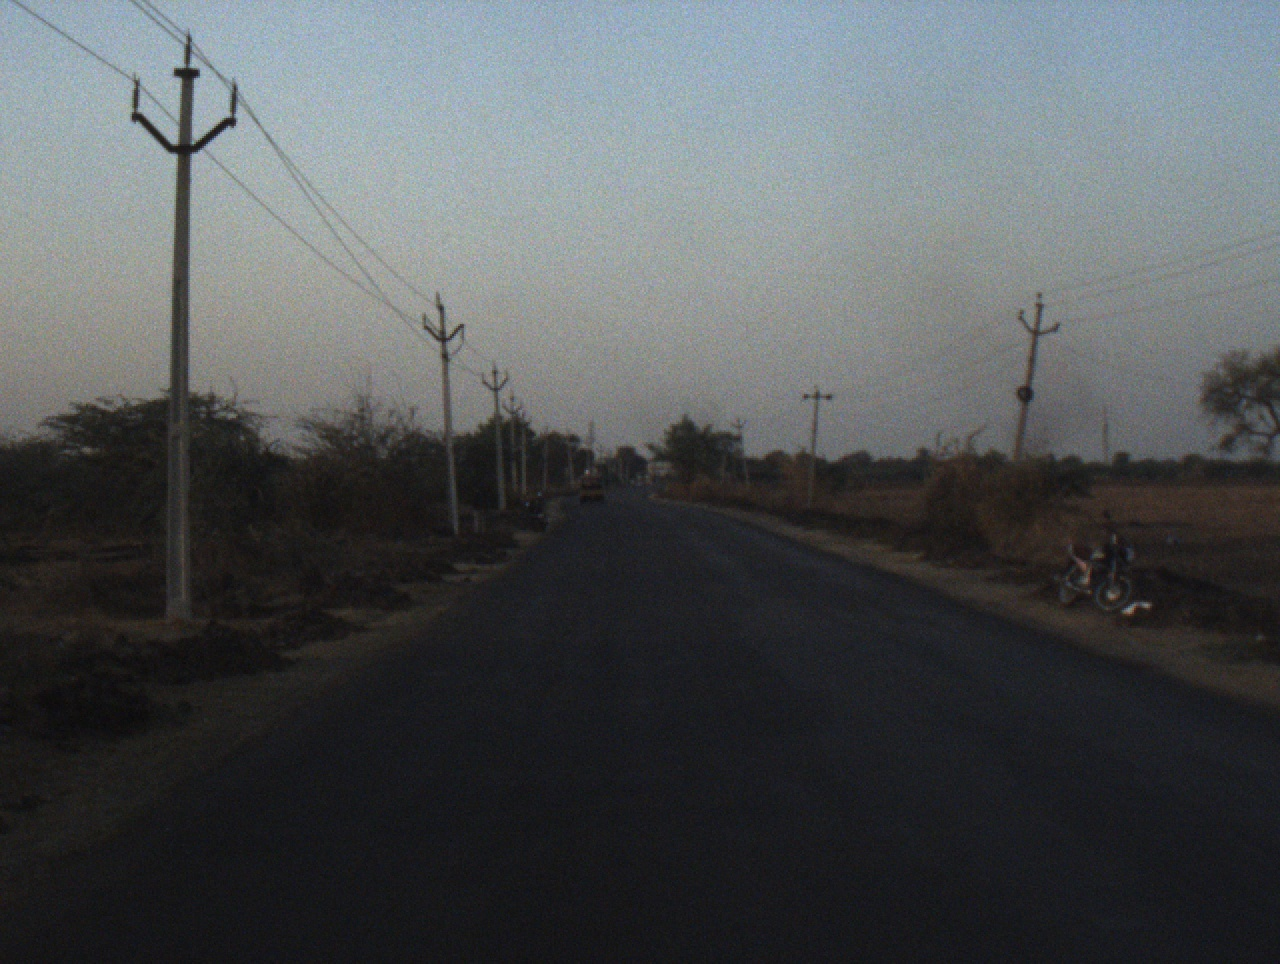autorickshaw: (574, 472, 610, 508)
motorcycle: (1049, 508, 1142, 626), (521, 489, 556, 535)
person: (470, 485, 496, 540)
